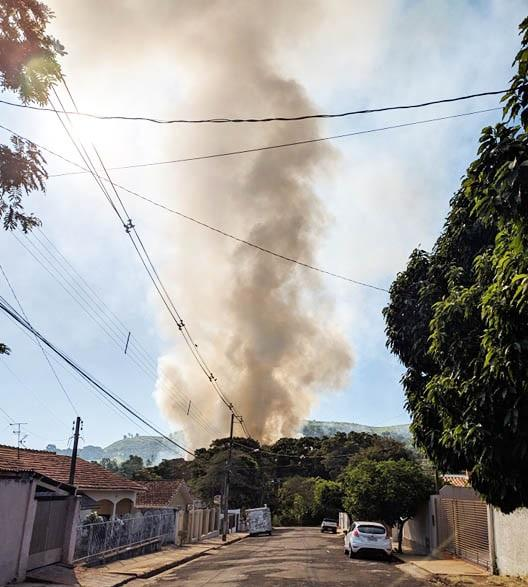smoke: (174, 167, 310, 389)
